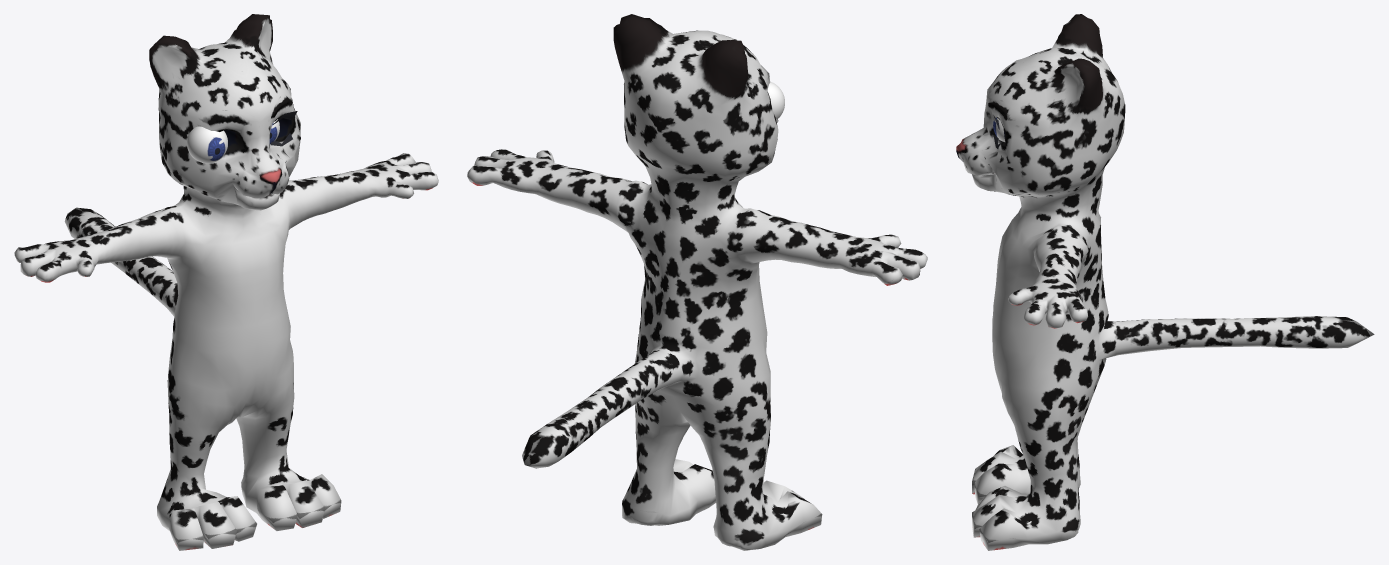
3 renders of one model, left to right at view 1: azimuth 30°, elevation 25°; view 2: azimuth 150°, elevation 25°; view 3: azimuth 270°, elevation 25°, orthographic. The views are drawn at different scales.
Visible parts, largest first — view 1: base, eyes.001; view 2: base; view 3: base.
Boxes of the visible parts, box(x1,y1,x2,y2) form: base: box(14, 14, 438, 550); eyes.001: box(187, 126, 227, 163); base: box(467, 14, 927, 550); base: box(956, 14, 1374, 550).
Size of the model in its own units: 2.43 by 2.68 by 2.15.
1 material, 1 textured.
